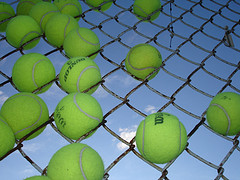tennis ball: (135, 111, 188, 167), (1, 91, 49, 140), (45, 141, 105, 180), (55, 91, 102, 138), (9, 53, 55, 93), (58, 56, 101, 94), (208, 88, 240, 136), (124, 43, 163, 80), (3, 14, 42, 51), (45, 13, 81, 48), (64, 28, 102, 60), (26, 1, 61, 32), (132, 1, 161, 23), (53, 1, 82, 21), (1, 2, 17, 33), (1, 119, 14, 157), (16, 1, 42, 16), (81, 1, 115, 11), (22, 174, 51, 180)
